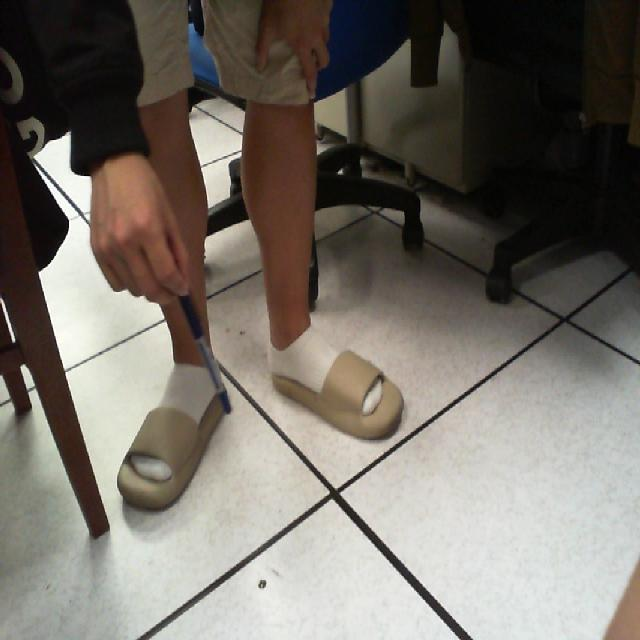Pen: (162, 260, 240, 428)
